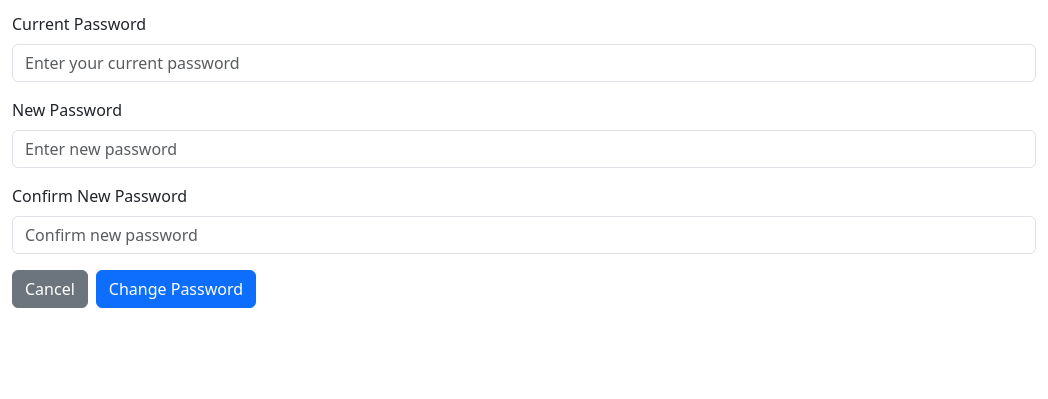
Test: ChangePassword › changePassword API › successfully changes password when input is valid
Type "password123" into the password field labelled "Current Password". click: {"x": 524, "y": 63}
box: [12,44,1036,82]
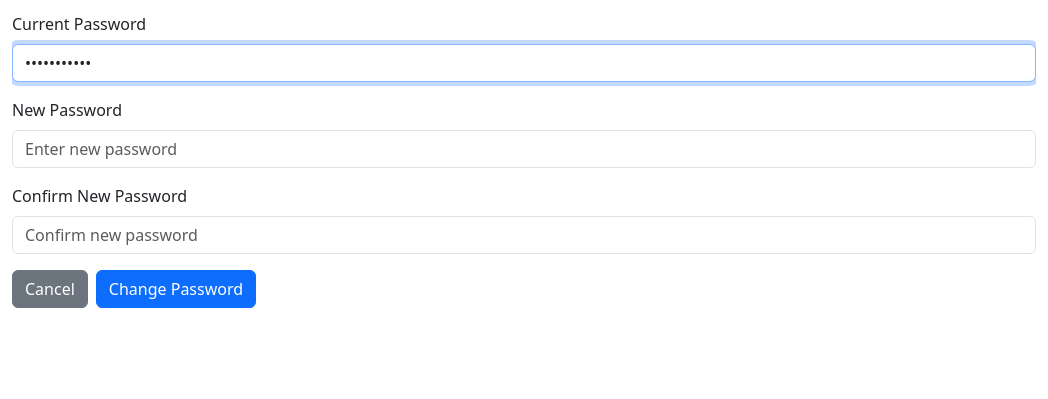
Type "newpassword123" into the password field labelled "New Password". click: {"x": 524, "y": 149}
box: [12,130,1036,168]
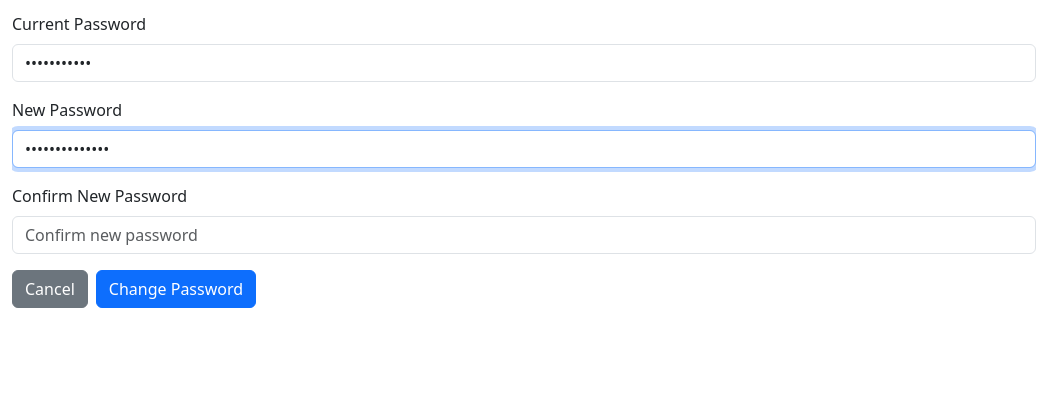
Type "newpassword123" into the password field labelled "Confirm New Password". click: {"x": 524, "y": 235}
box: [12,216,1036,254]
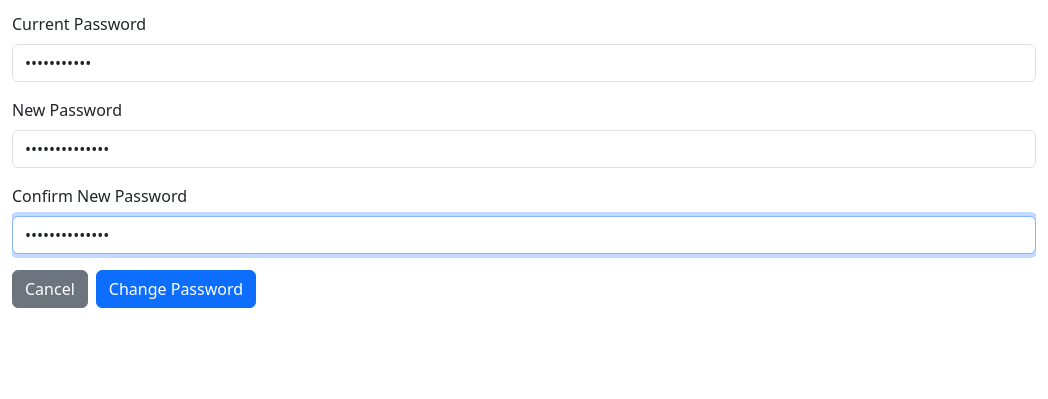
Click the button "Change Password". click: {"x": 176, "y": 289}
box: [96,270,256,308]
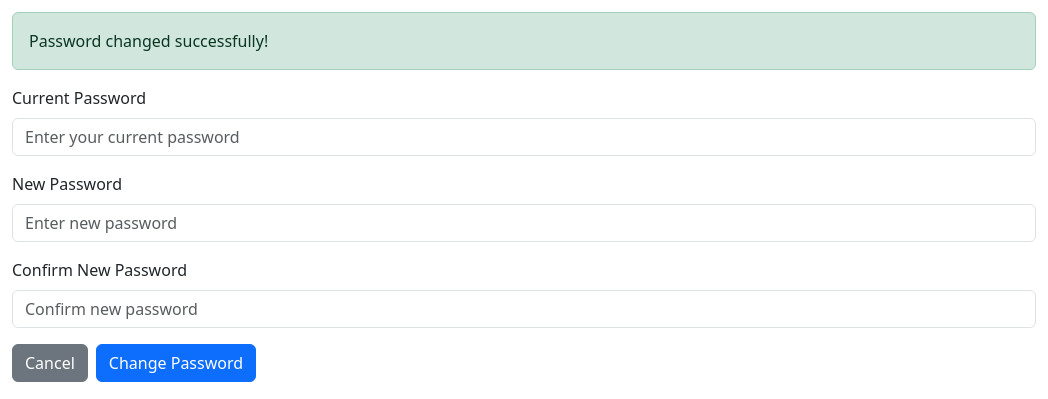
Result: the message reads "Password changed successfully!" at [29,30,268,52]
